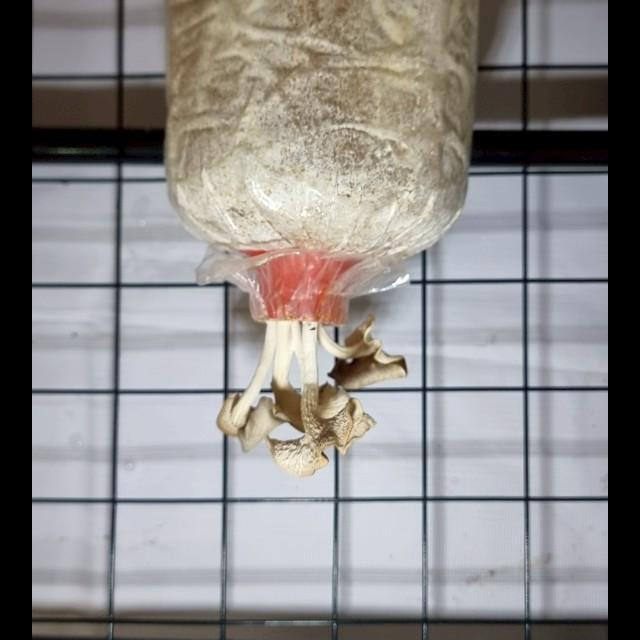abnormal: (270, 301, 373, 480), (214, 306, 286, 484), (305, 292, 411, 393)
